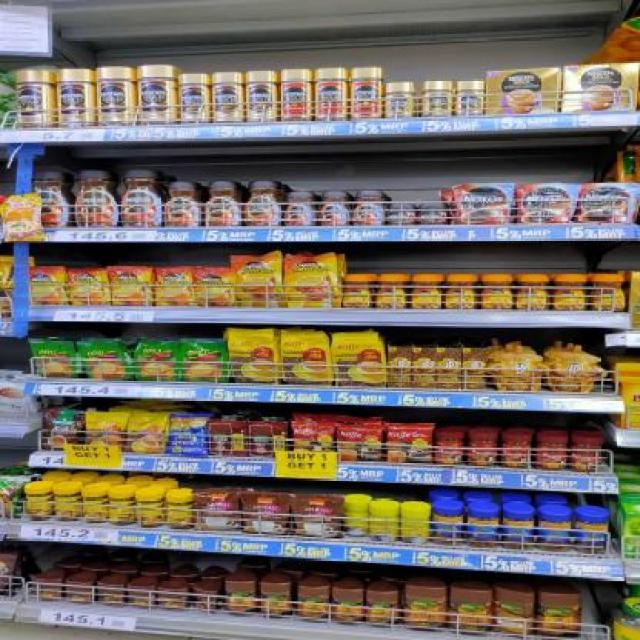Coffee: (284, 258, 336, 307), (73, 170, 116, 226), (236, 256, 281, 306), (123, 169, 160, 228), (56, 68, 92, 127), (580, 186, 634, 225), (456, 186, 509, 225), (520, 186, 572, 225), (97, 67, 131, 125), (13, 71, 47, 129), (138, 65, 171, 124), (109, 266, 151, 305), (165, 181, 200, 227), (244, 181, 280, 225), (206, 181, 239, 225), (213, 72, 242, 122), (155, 268, 193, 306), (246, 72, 276, 120), (180, 73, 209, 122), (197, 269, 236, 305), (68, 270, 108, 305), (28, 267, 63, 304), (480, 274, 511, 310), (553, 275, 584, 310), (518, 274, 547, 310), (594, 274, 623, 310), (319, 192, 349, 226), (385, 82, 413, 118), (411, 274, 440, 308), (355, 190, 383, 225), (377, 275, 406, 308), (286, 192, 314, 226), (446, 274, 474, 308), (424, 80, 451, 115), (457, 81, 483, 116), (342, 276, 370, 307), (418, 204, 447, 224), (388, 204, 415, 225)
